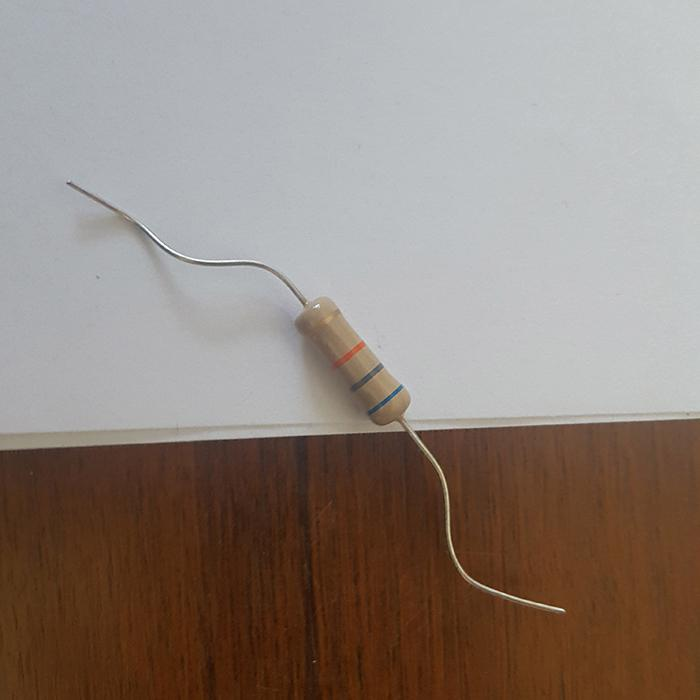resistor: (295, 295, 408, 422)
